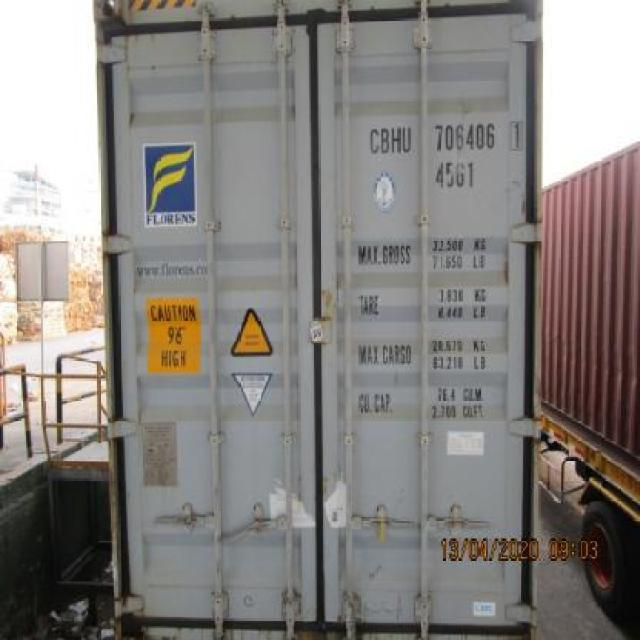ISO: (435, 164, 476, 188)
container_number: (372, 123, 525, 150)
